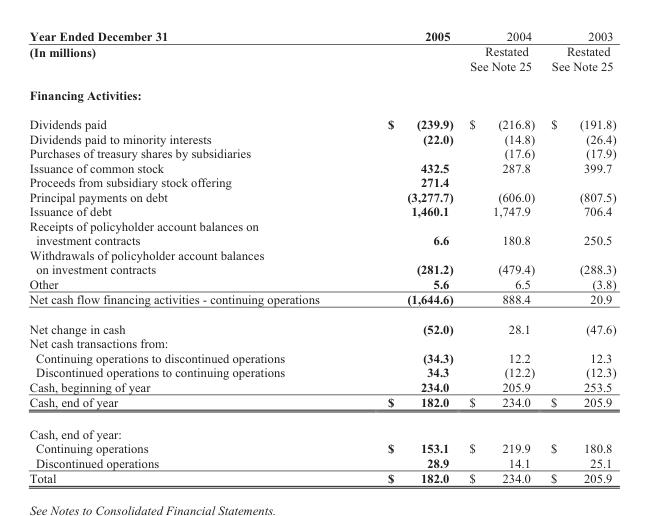table: (28, 29, 615, 484)
table column: (28, 29, 352, 484), (352, 29, 460, 484), (460, 29, 542, 484), (542, 29, 615, 484)
table column header: (28, 29, 615, 80)
table projected row header: (28, 80, 615, 109), (28, 417, 615, 440), (28, 335, 615, 350), (28, 218, 615, 232), (28, 247, 615, 261)
table row: (28, 29, 615, 80), (28, 80, 615, 109), (28, 394, 615, 417), (28, 417, 615, 440), (28, 109, 615, 131), (28, 291, 615, 313), (28, 313, 615, 335), (28, 145, 615, 160), (28, 174, 615, 189), (28, 203, 615, 218), (28, 232, 615, 247), (28, 261, 615, 276), (28, 276, 615, 291), (28, 335, 615, 350), (28, 364, 615, 379), (28, 379, 615, 394), (28, 440, 615, 455), (28, 455, 615, 470), (28, 131, 615, 145), (28, 160, 615, 174), (28, 189, 615, 203), (28, 218, 615, 232), (28, 247, 615, 261), (28, 350, 615, 364), (28, 470, 615, 484)
